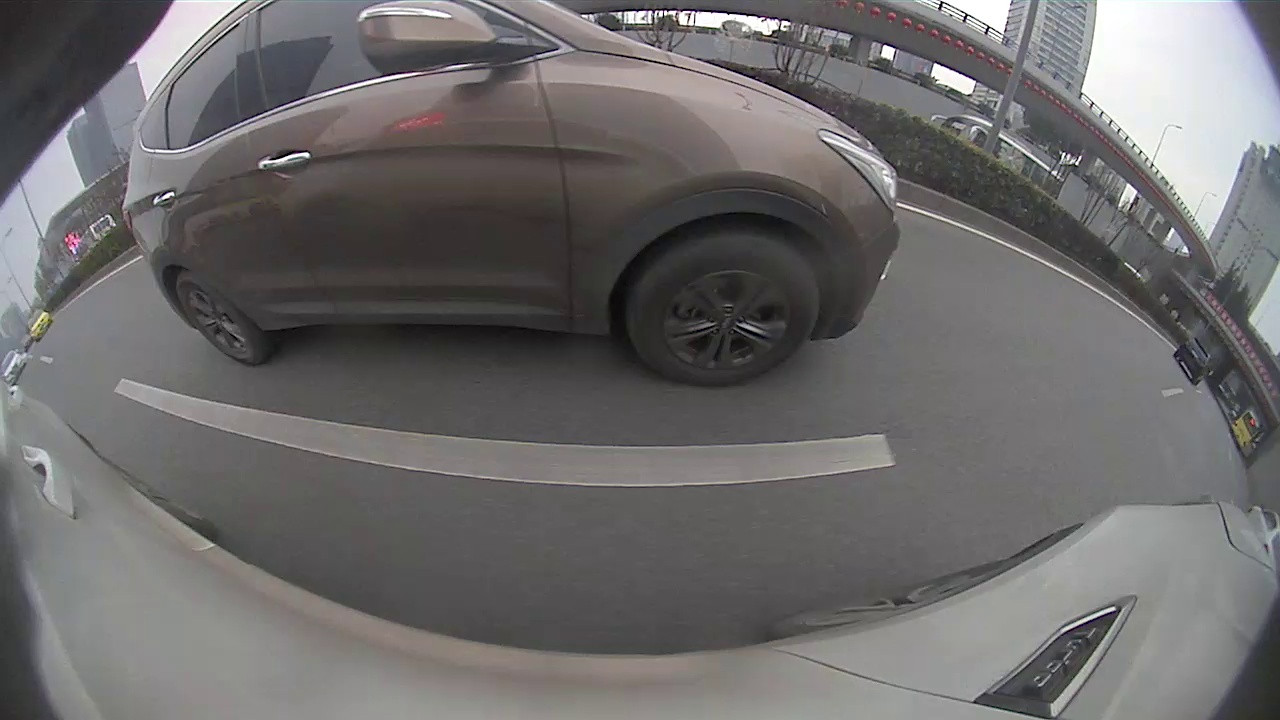car: (122, 1, 897, 386), (1174, 337, 1210, 383)
front: (624, 229, 824, 386)
rear: (173, 268, 277, 367)
